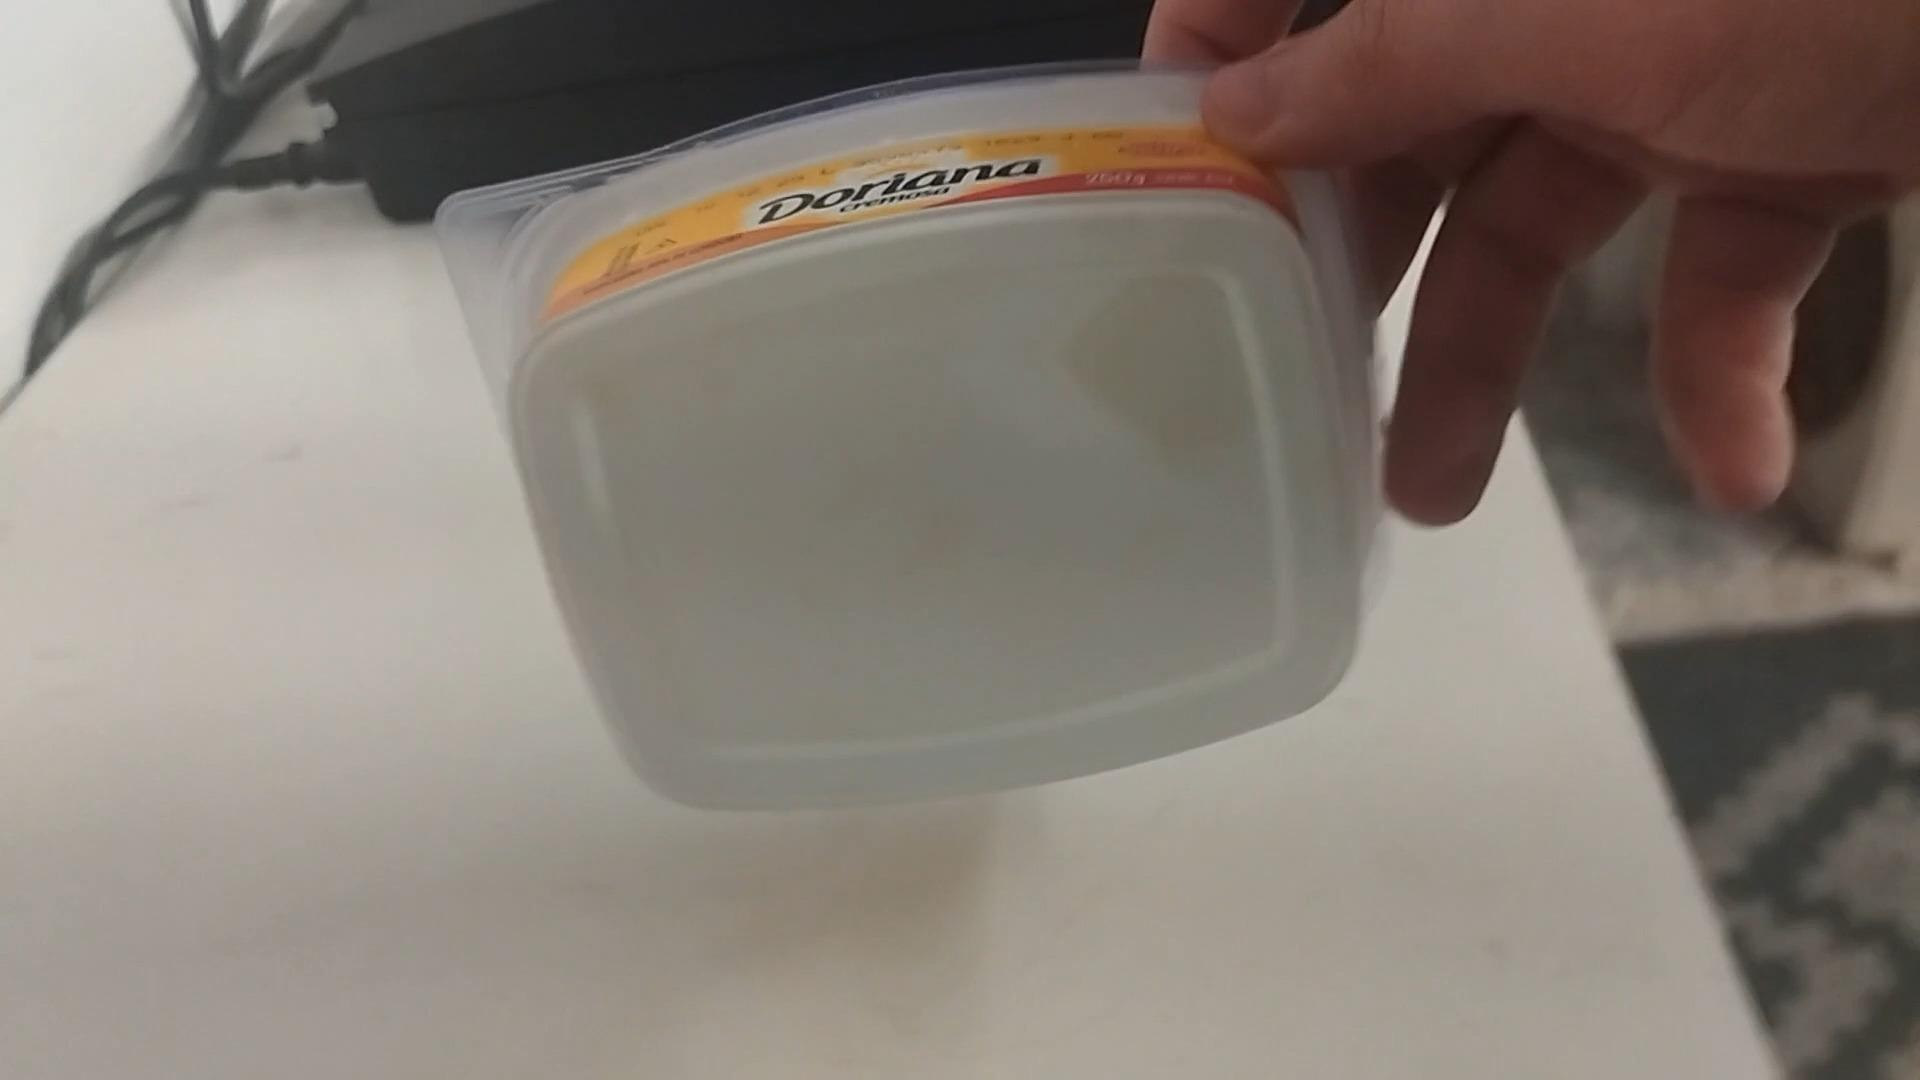butter: (430, 60, 1388, 817)
